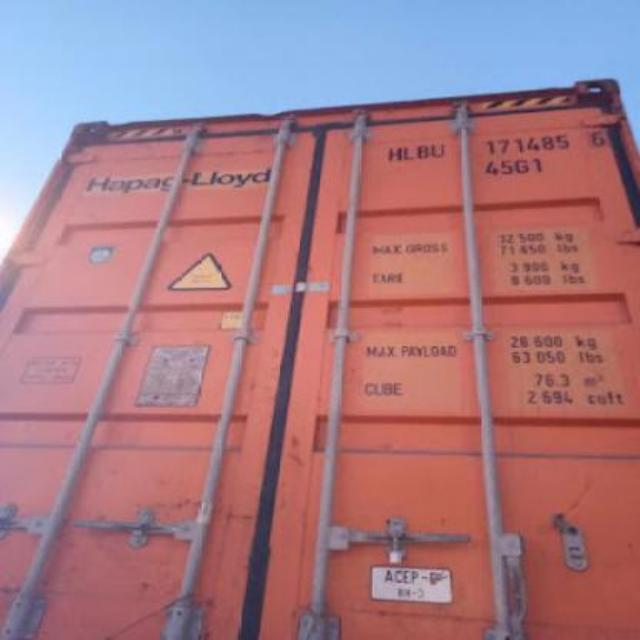1: (512, 136, 526, 154), (484, 140, 498, 156)
4: (526, 137, 542, 153)
5: (554, 134, 572, 150)
6: (588, 130, 608, 150)
7: (496, 136, 509, 154)
8: (542, 135, 556, 151)
B: (414, 146, 430, 160)
H: (388, 144, 402, 164)
L: (404, 148, 414, 162)
U: (430, 143, 446, 159)
